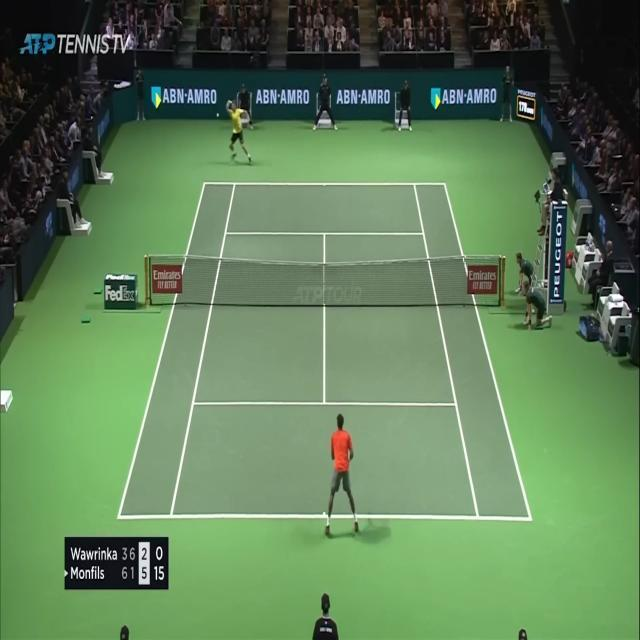court: (116, 182, 534, 522)
net: (142, 253, 508, 308)
player: (324, 414, 360, 536)
